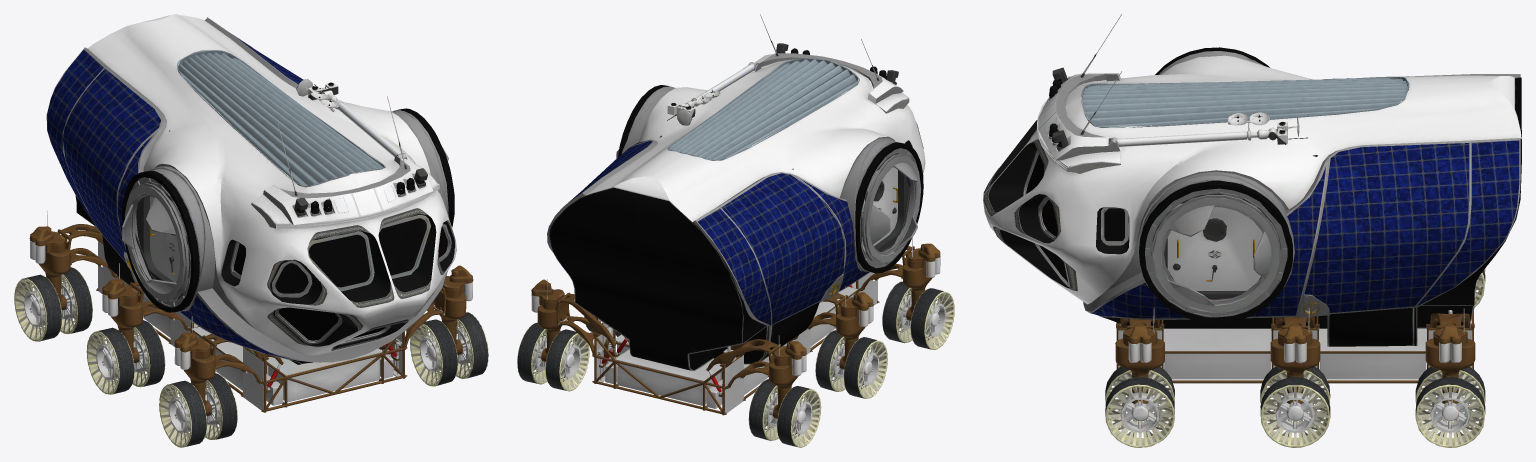
Rendered from sev.glb.
3 views of the same model, side by side, from view 1: azimuth 30°, elevation 25°; view 2: azimuth 150°, elevation 25°; view 3: azimuth 270°, elevation 25° (orthographic). The views are drawn at different scales.
Visible parts, largest first — view 1: MMSEV; view 2: MMSEV; view 3: MMSEV.
Part boxes in pixels (x1,y1,x2,y2): MMSEV: (14,14,488,447); MMSEV: (517,14,954,447); MMSEV: (983,14,1521,447).
Size of the model in its own units: 4.04 by 3.97 by 5.91.
Materials: 1 (1 with a texture image).
